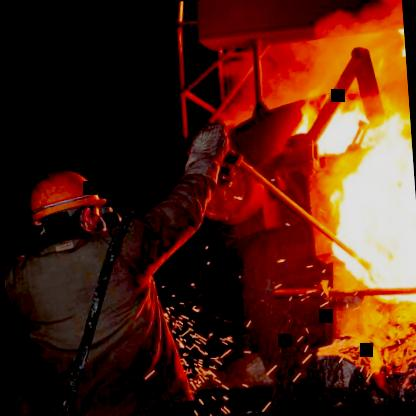helmet: (15, 158, 118, 250)
